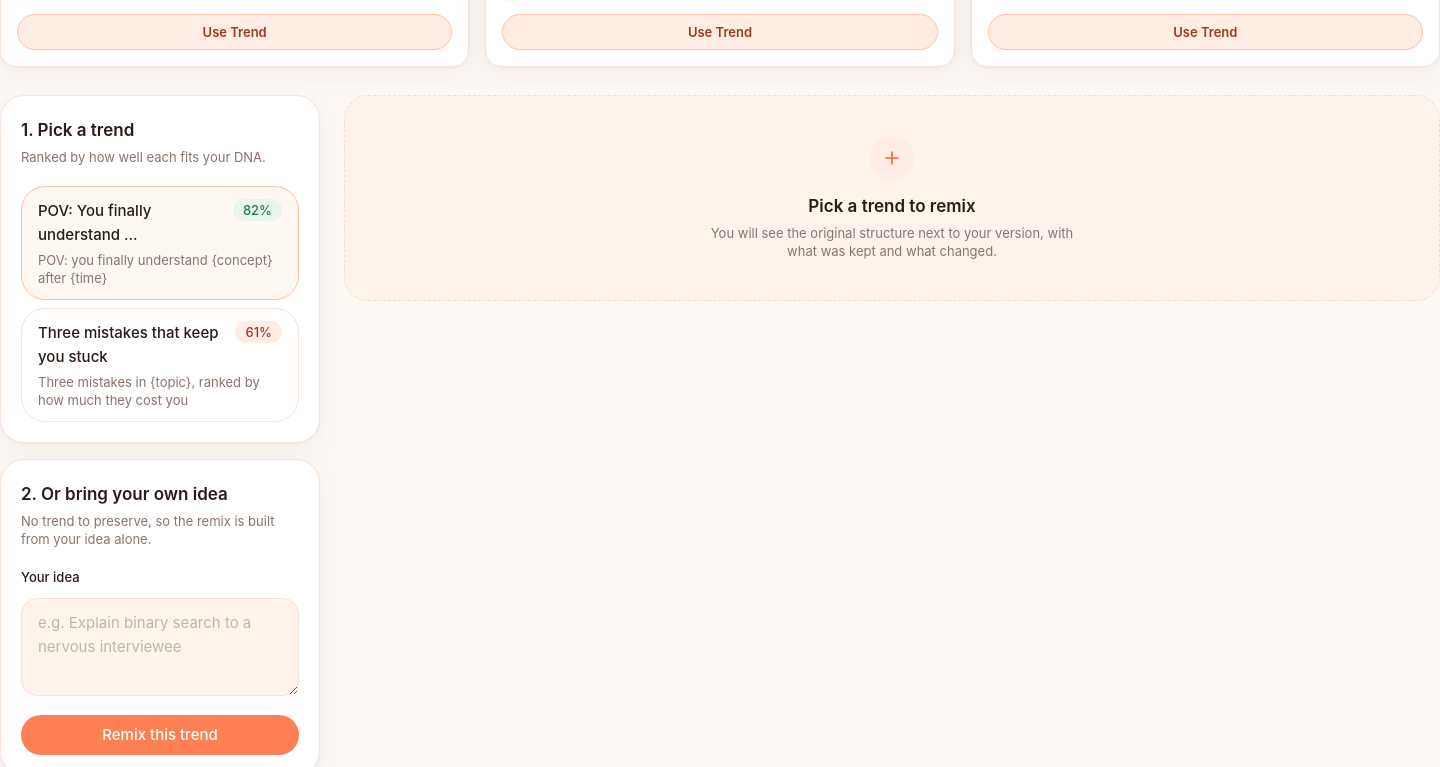
TrendRemixPage › opens Hook / Script / CTA as expandable sections
The image size is (1440, 767).
(page scrolled)
Click the button "Remix this trend".
click(160, 734)  # box [21,714,299,754]
(page scrolled)
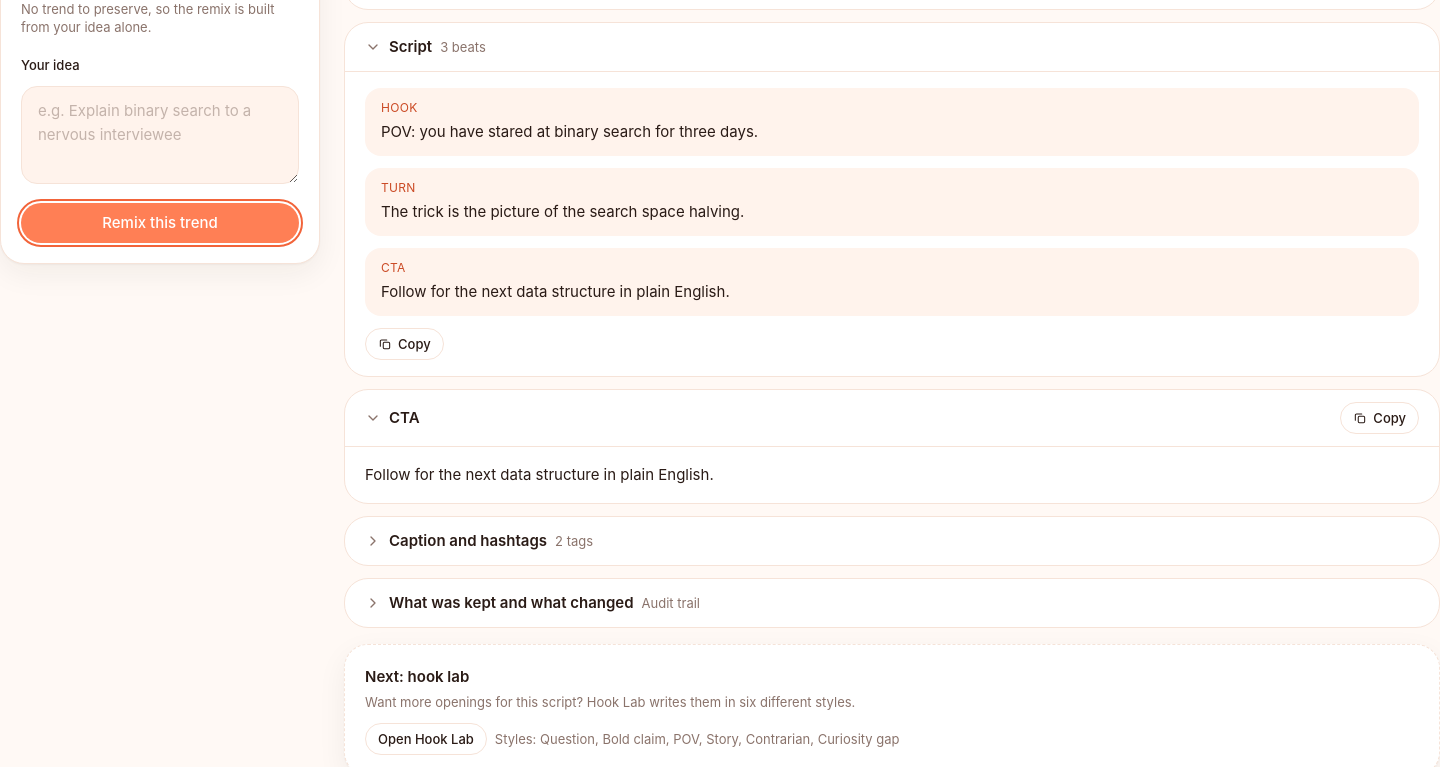
Click the button "What was kept and what changed Audit trail".
click(511, 602)  # box [365,591,1419,615]
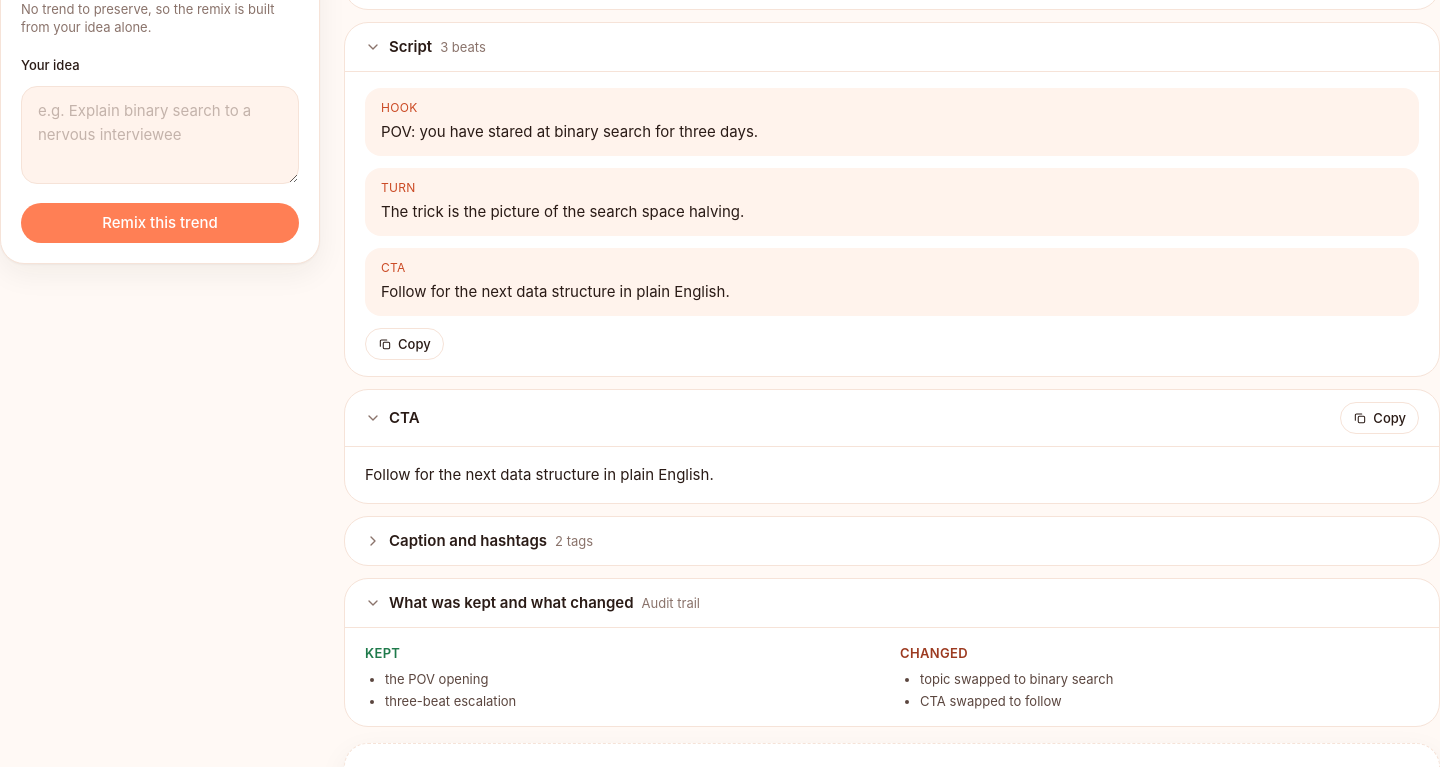
Now the button "What was kept and what changed Audit trail" is expanded, box [365,591,1419,615]
Now the list item "the POV opening" is shown, box [385,671,488,687]
